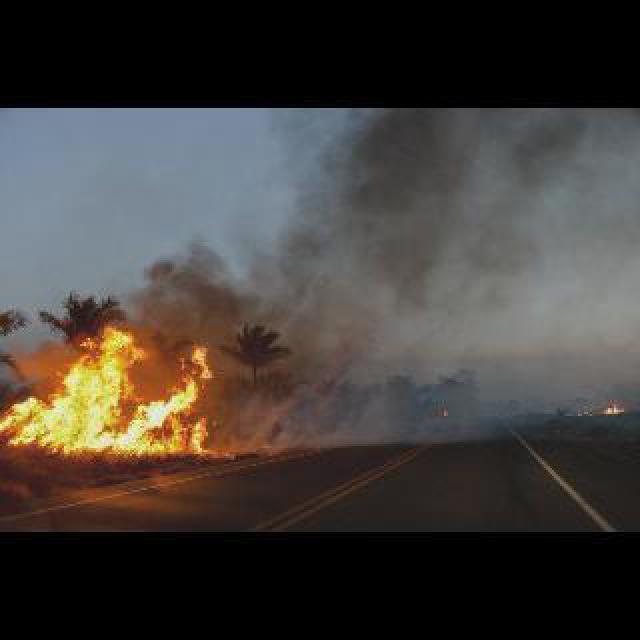Fire: (2, 330, 226, 458), (602, 402, 626, 412)
Smoke: (270, 106, 638, 342), (226, 376, 508, 446), (98, 232, 266, 328)
